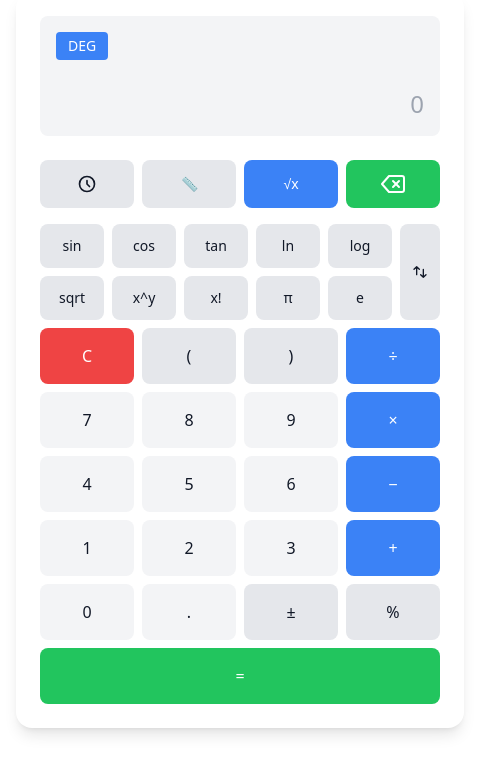
Scenario: SimpleCalculator › shows inverse trig results in degrees by default
// Second operator set holds the inverse trig keys.
What coordinates should you click on to do the following:
click the button named "Swap operator set"
I would click on:
 (420, 272)
Its box is [400,224,440,320].
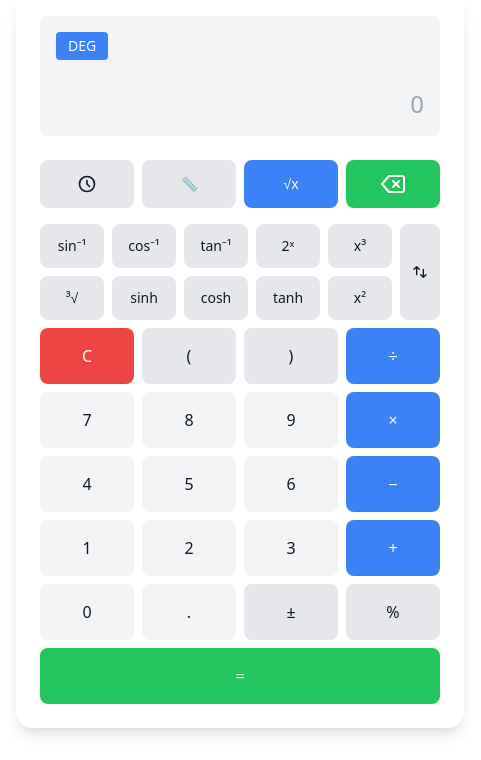
What coordinates should you click on to do the following:
click the button labelled "sin⁻¹"
I would click on:
 (72, 246)
Its box is [40,224,104,268].
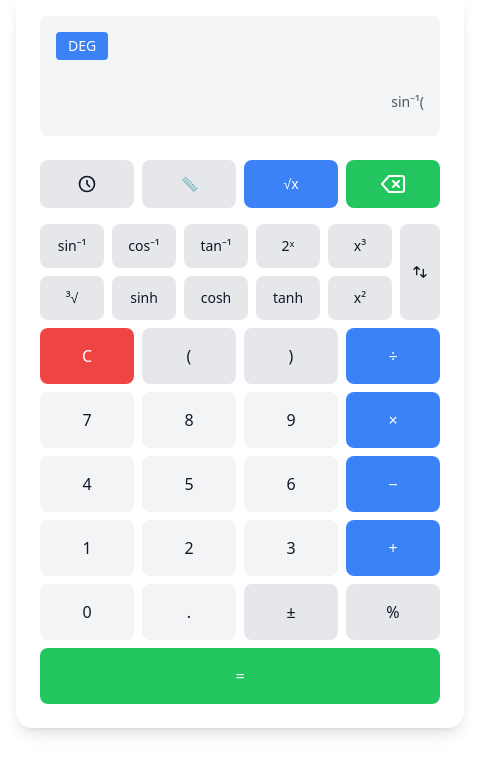
What coordinates should you click on to do the following:
click the button labelled "1"
I would click on:
 (87, 548)
Its box is [40,520,134,576].
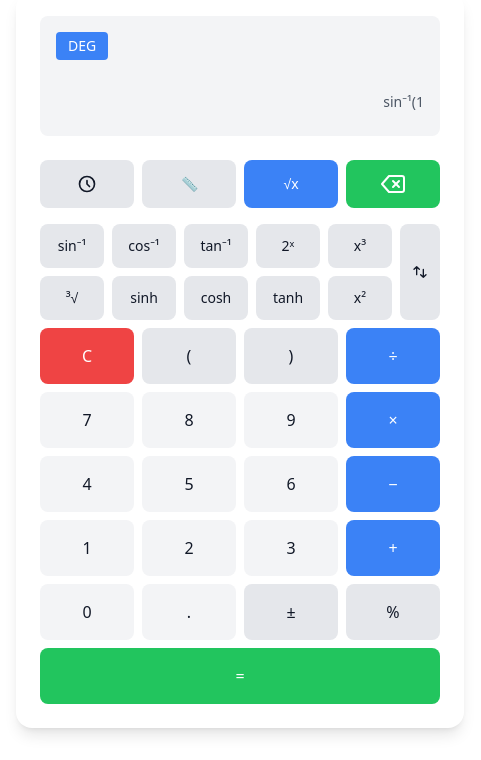
What coordinates should you click on to do the following:
click the button named "Right parenthesis"
I would click on:
 (291, 356)
Its box is [244,328,338,384].
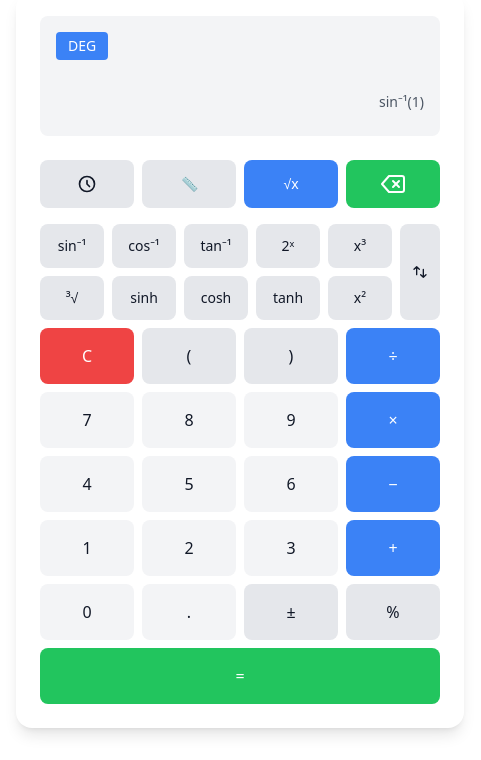
What coordinates should you click on to do the following:
click the button named "Equals"
I would click on:
 (240, 676)
Its box is [40,648,440,704].
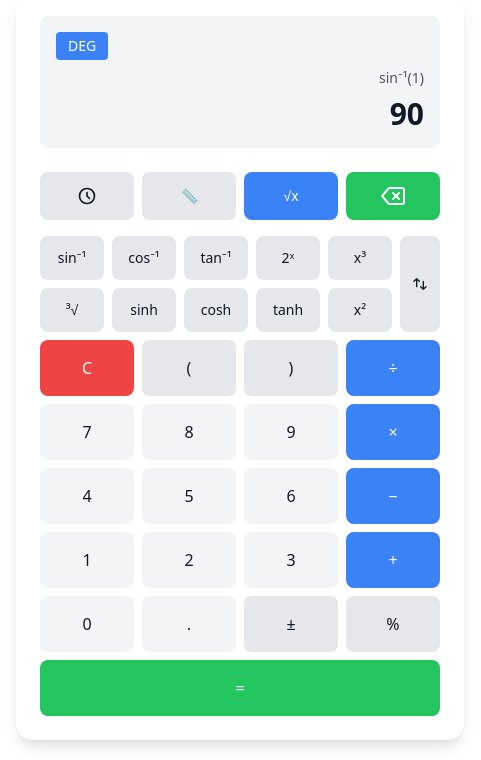
Now the text "90" is shown, box [390,96,424,132]
